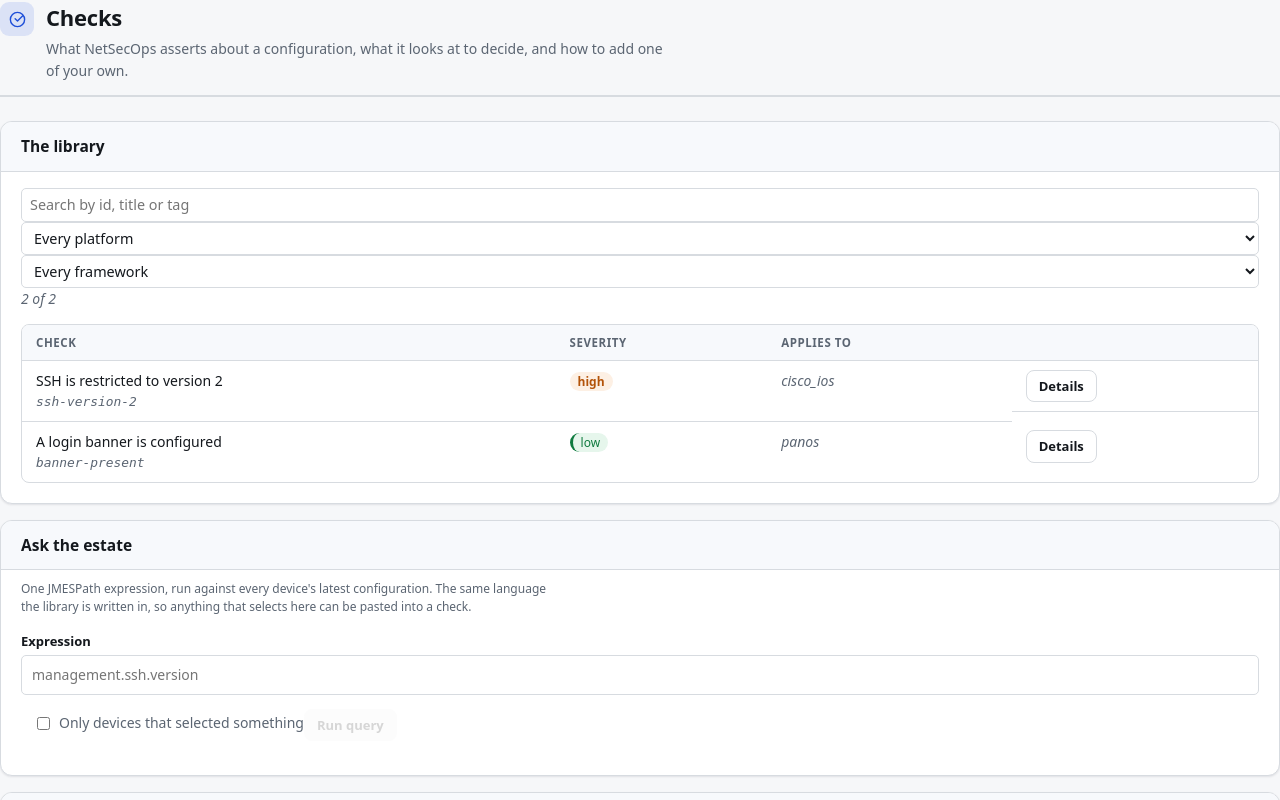
ChecksPage › previewing › says the preview wrote nothing
The image size is (1280, 800).
Check: the text "SSH is restricted to version 2" is shown, box [36,371,223,390]
Click the button "Details" in the row of "SSH is restricted to version 2": (1061, 386) [1026,370,1097,402]
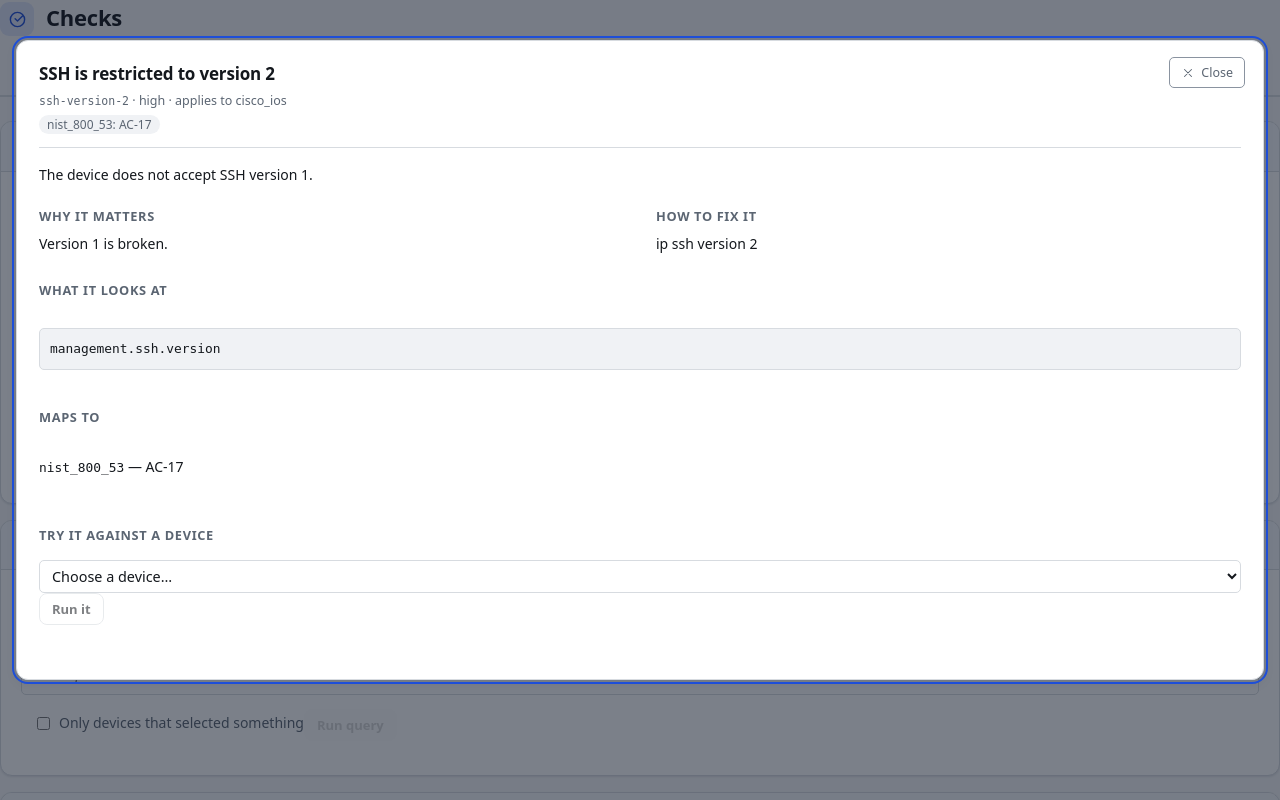
Check: the dropdown named "Device to check" is shown
Select "core-sw-01" in the dropdown named "Device to check": (640, 577) [39,560,1241,593]
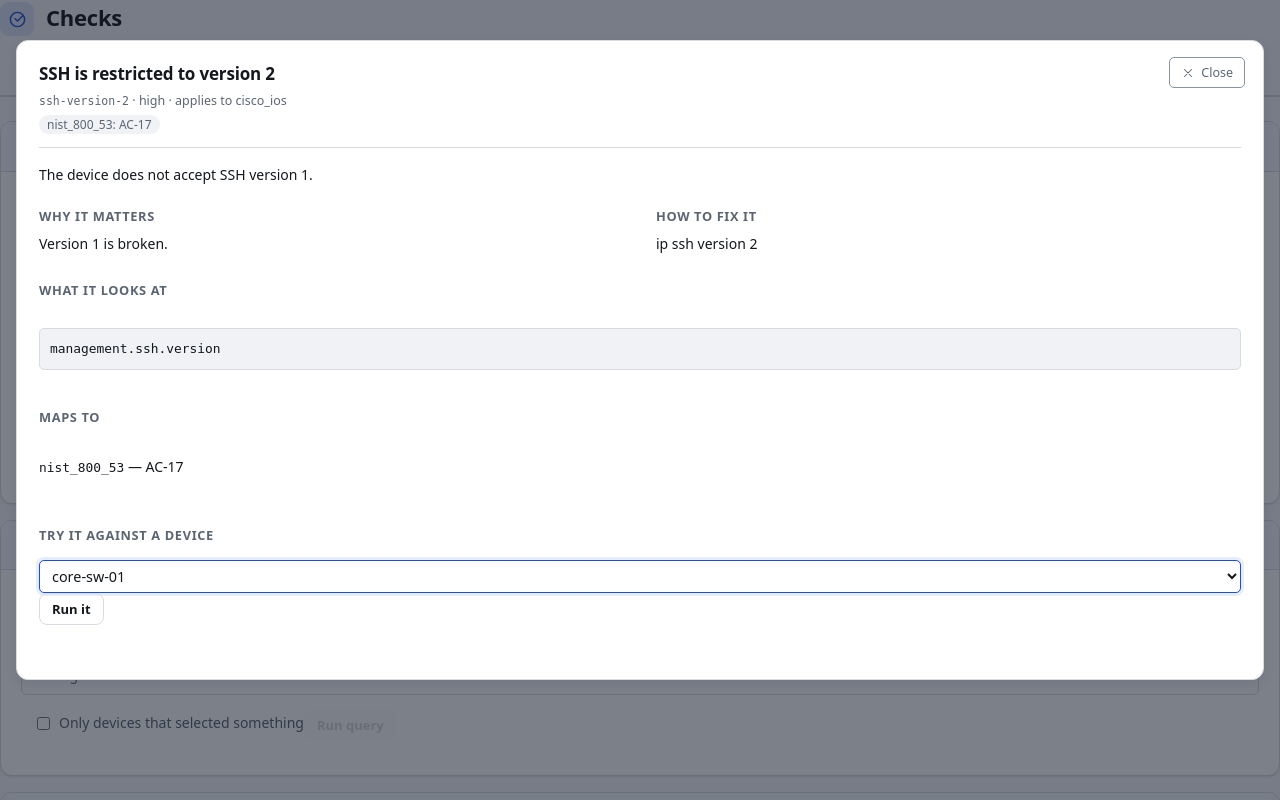
Click the button "Run it": (71, 609) [39,593,104,625]
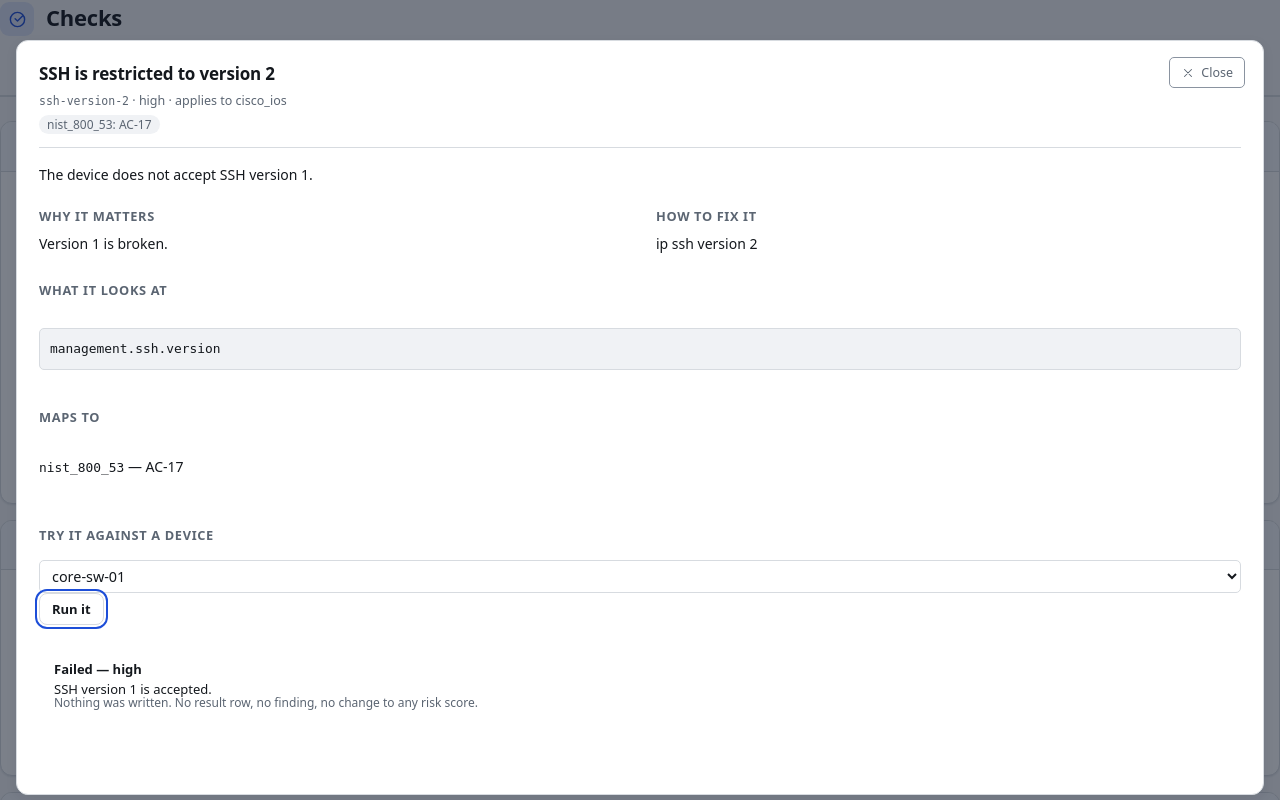
Check: the text "Nothing was written" is shown, box [54,694,478,710]
Check: the text "SSH version 1 is accepted." is shown, box [54,680,212,698]
